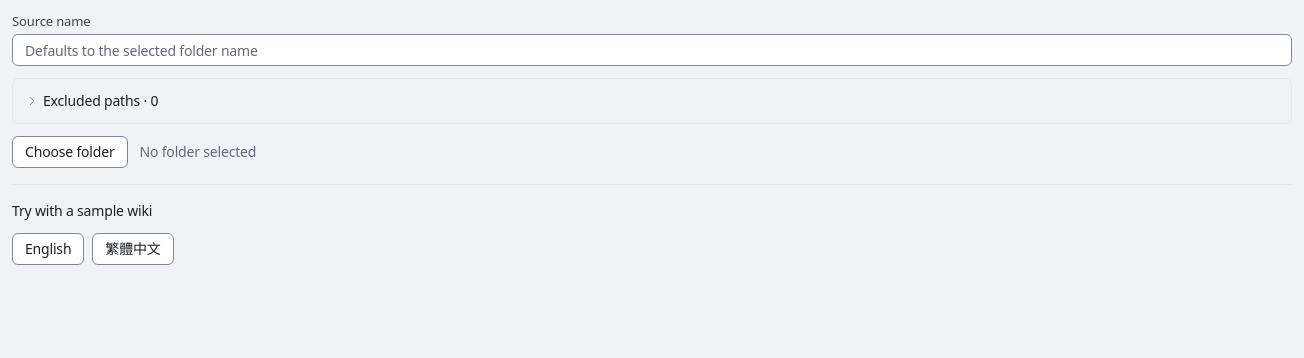
Try with a sample wiki › keeps everything locked from the first click until the import request returns, with no enabled gap between
The width and height of the screenshot is (1304, 358).
Click the button "English": (48, 249) [12,233,84,265]
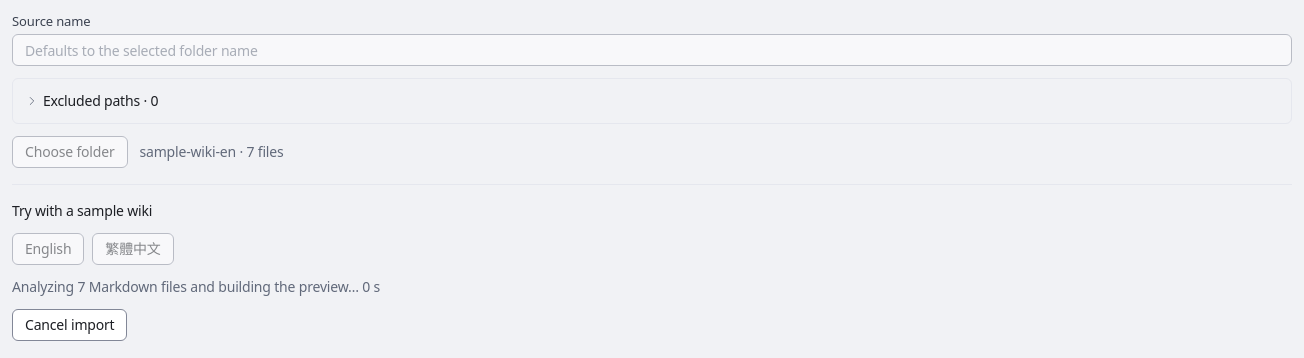
Expected: the button "English" is disabled, [12,233,84,265]
Expected: the button "繁體中文" is disabled, [92,233,174,265]
Expected: the button "Choose folder" is disabled, [12,136,128,168]
